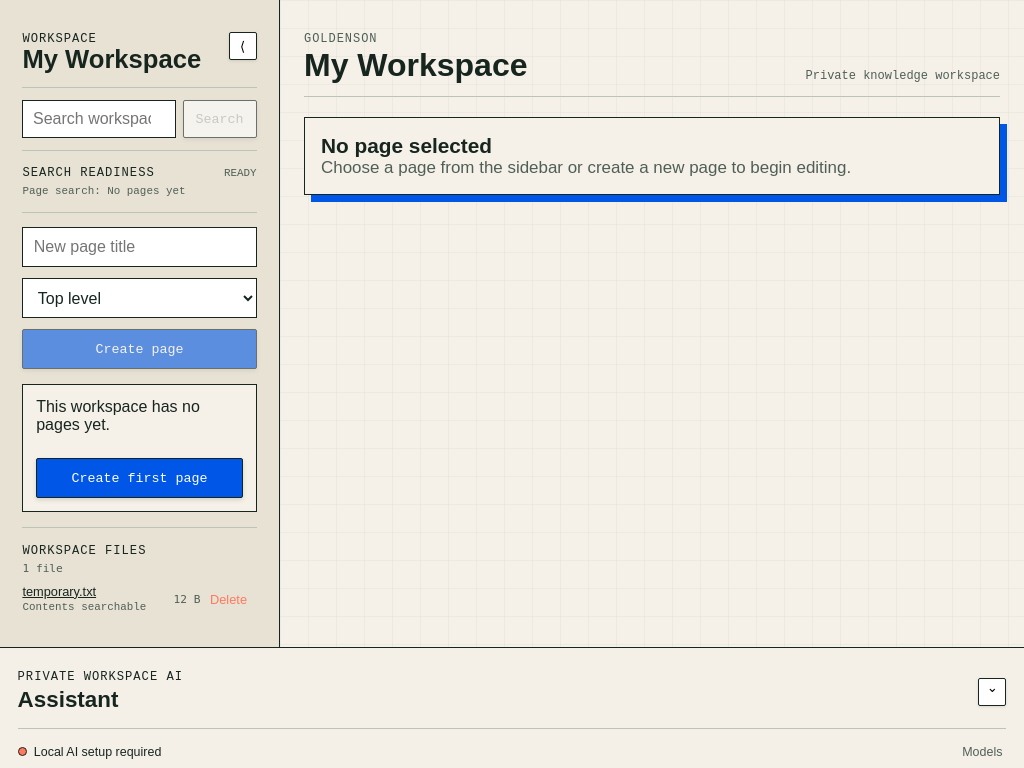
Test: App product language › removes stale active search results after deleting a file
The width and height of the screenshot is (1024, 768).
Type "temporary" into the search field labelled "Search workspace" at (99, 119), box [22,100,176,138]
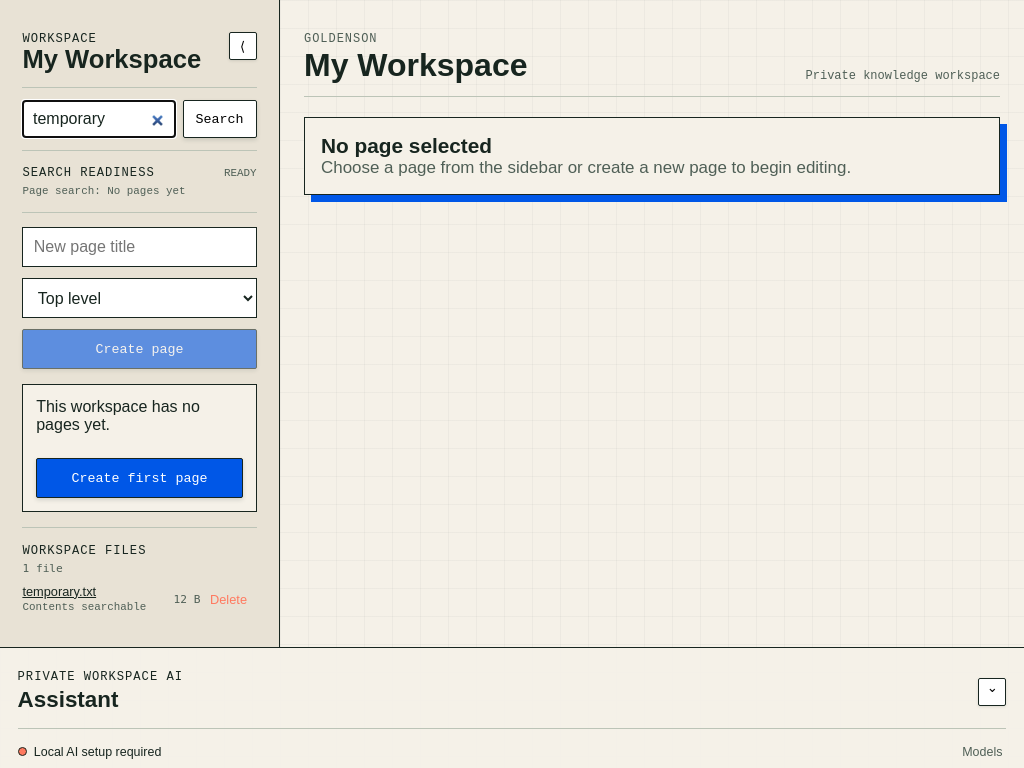
Click the button "Search" at (220, 119), box [183,100,257,138]
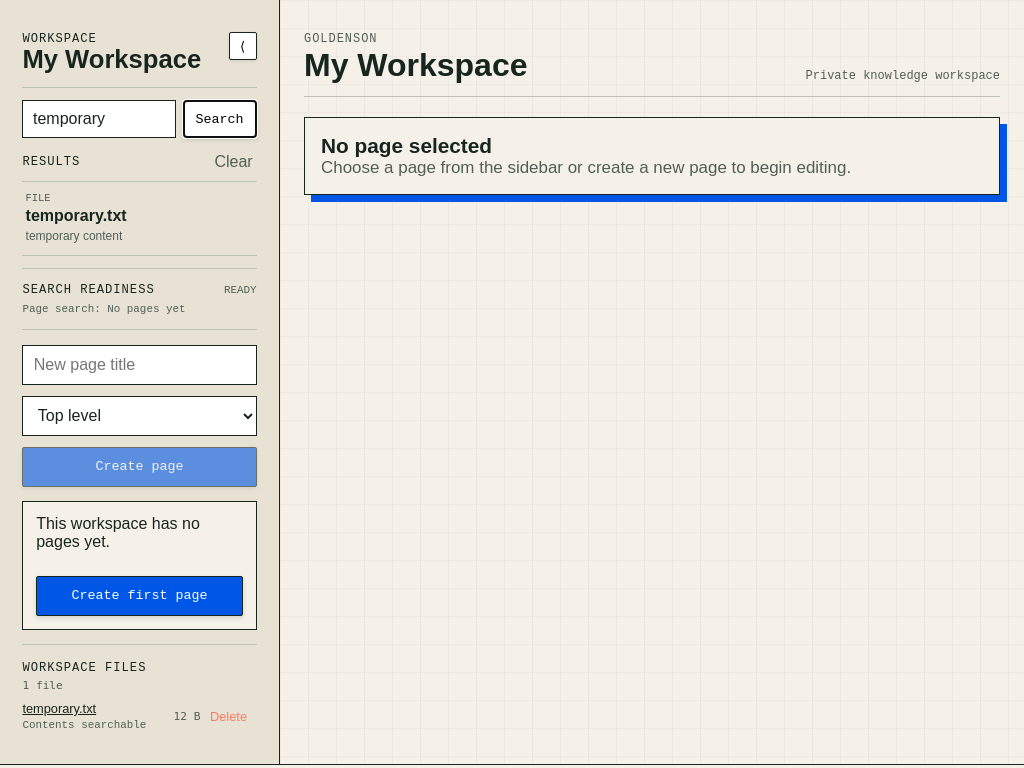
Result: the button "File temporary.txt temporary content" is shown at [22,181,257,255]
Click the button with aria-label "Delete temporary.txt" at (228, 717), box [206,705,251,728]
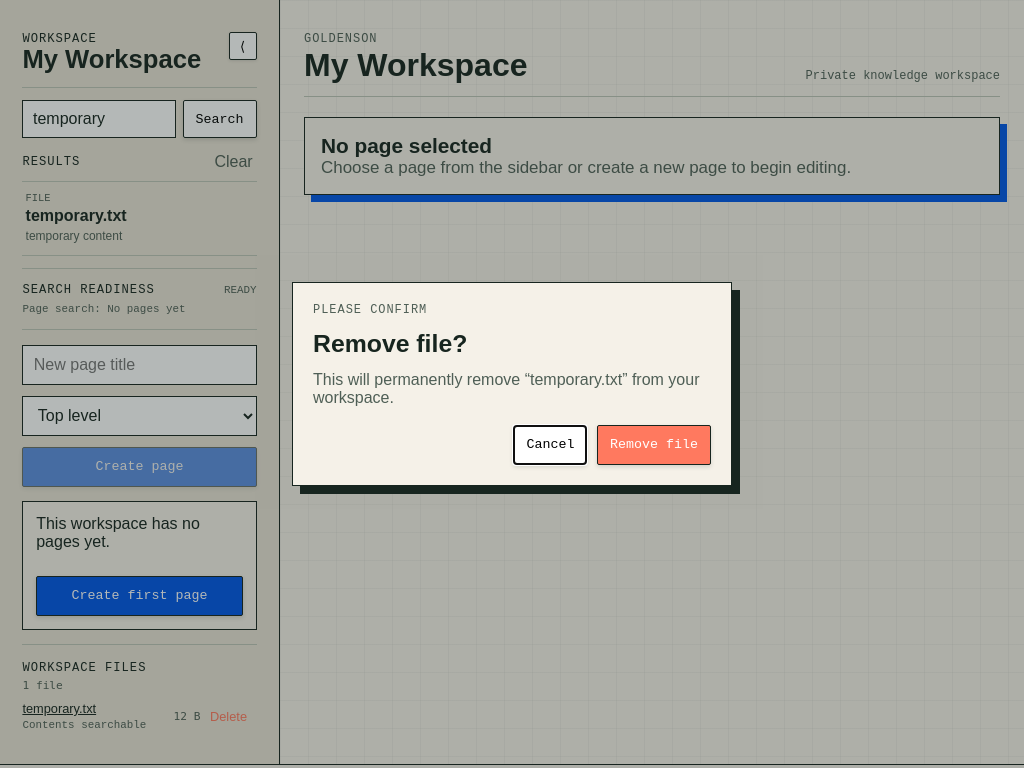
Click the button "Remove file" at (654, 445), box [597,425,711,465]
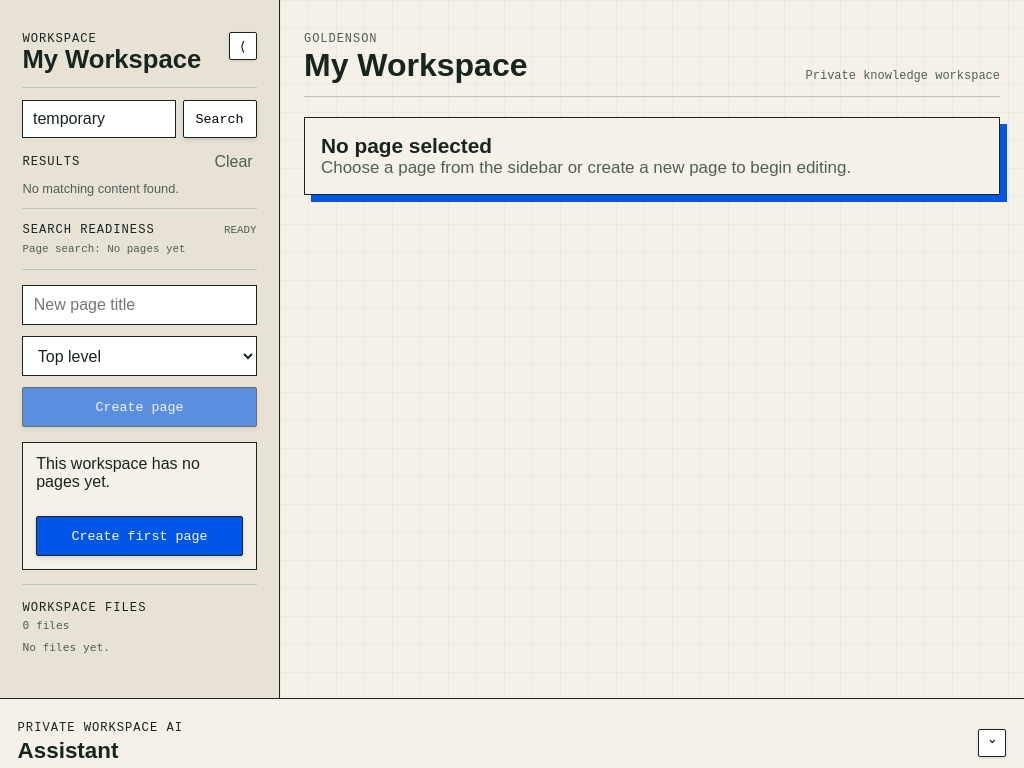
Result: the text "No matching content found." is shown at [22,181,179,196]
